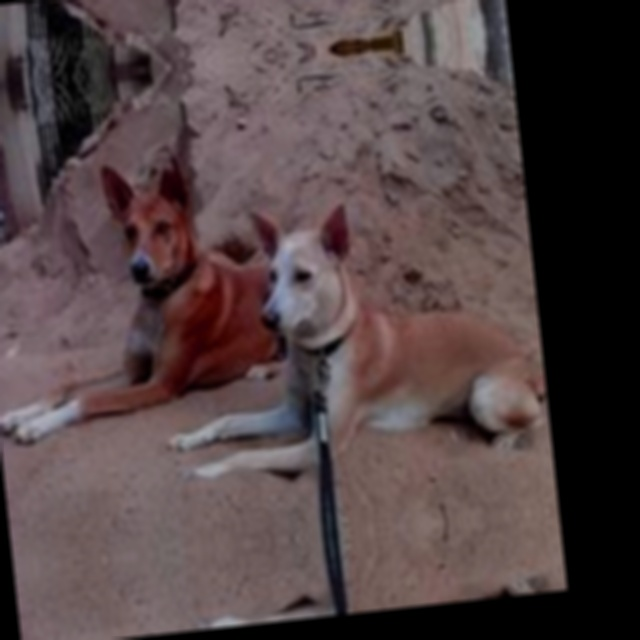dog: (182, 181, 555, 507), (0, 149, 275, 446), (221, 549, 567, 627)
